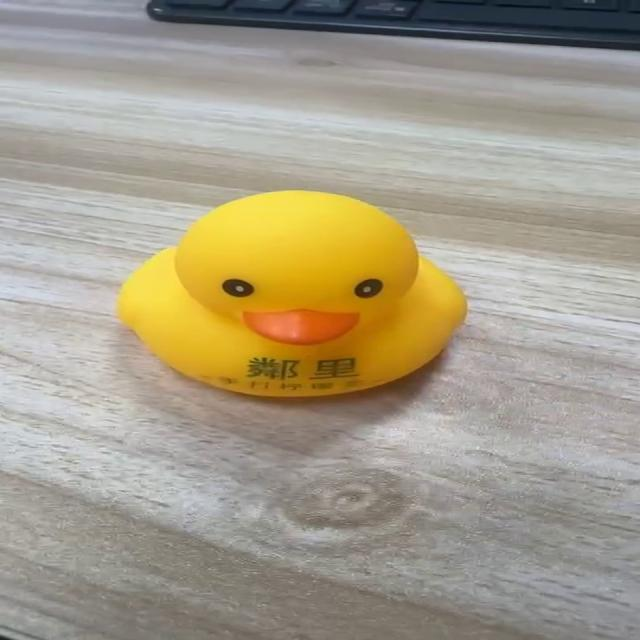yellow_duck: (114, 188, 468, 399)
